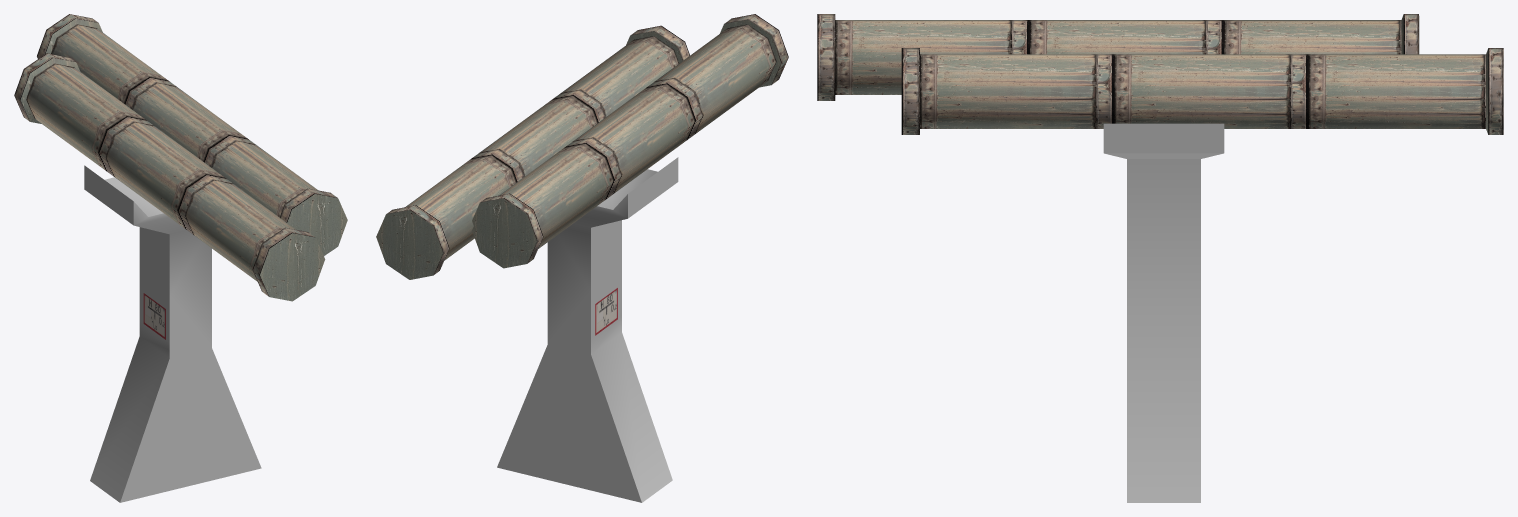
File: pipe_gas_long.fbx
3 renders of one model, left to right at view 1: azimuth 30°, elevation 25°; view 2: azimuth 150°, elevation 25°; view 3: azimuth 270°, elevation 25°, orthographic. The views are drawn at different scales.
Parts seen in each view (by area): view 1: Mesh Object; view 2: Mesh Object; view 3: Mesh Object.
Boxes of the visible parts, x1,y1,x2,y2 form: Mesh Object: [14, 14, 347, 502]; Mesh Object: [376, 14, 788, 502]; Mesh Object: [817, 14, 1503, 502].
Size of the model in its own units: 1.58 by 3.74 by 5.4.
